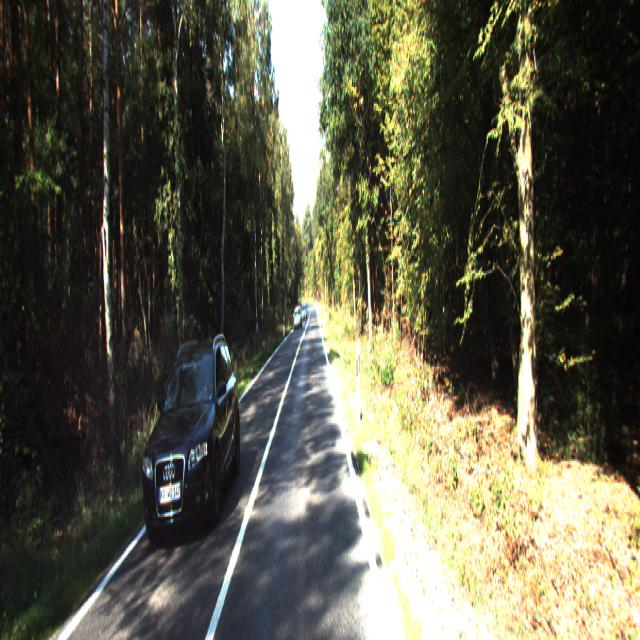Car: (137, 328, 243, 544)
